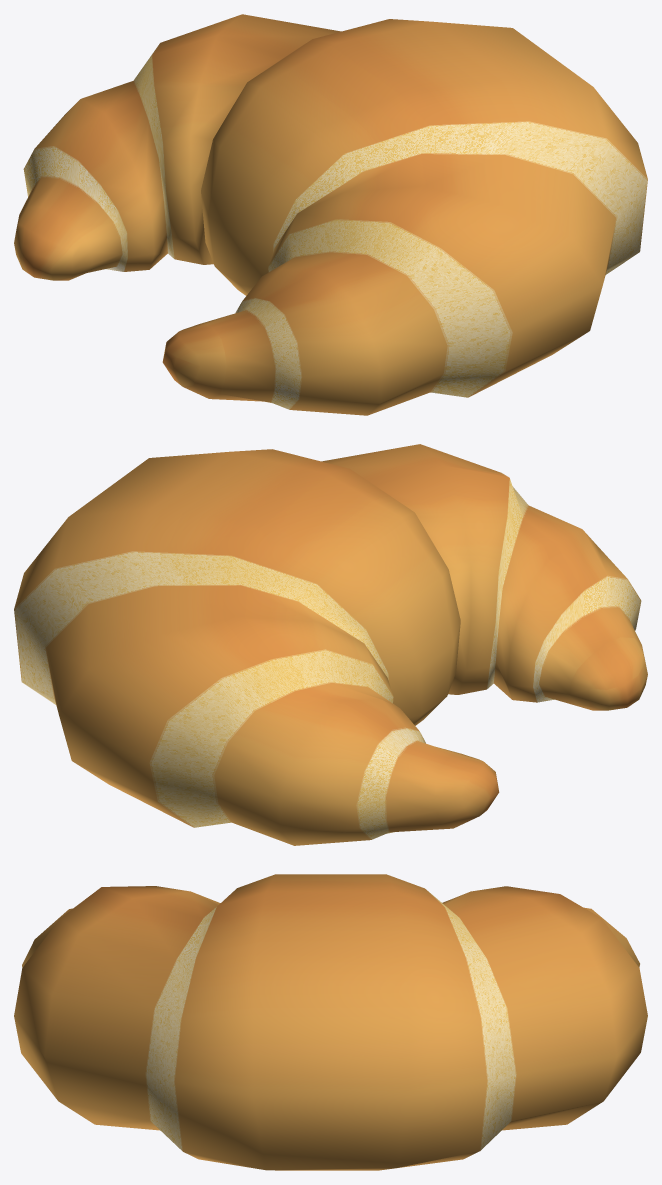
Rendered from croissantPlain.gltf.
3 renders of one model, top to bottom at view 1: azimuth 30°, elevation 25°; view 2: azimuth 150°, elevation 25°; view 3: azimuth 270°, elevation 25°, orthographic. The views are drawn at different scales.
Visible parts, largest first — view 1: Croissant; view 2: Croissant; view 3: Croissant.
Part boxes in pixels (<box>): Croissant: <box>14,14,647,415</box>; Croissant: <box>14,444,647,845</box>; Croissant: <box>14,874,647,1170</box>.
Size of the model in its own units: 1.39 by 0.5607 by 1.58.
